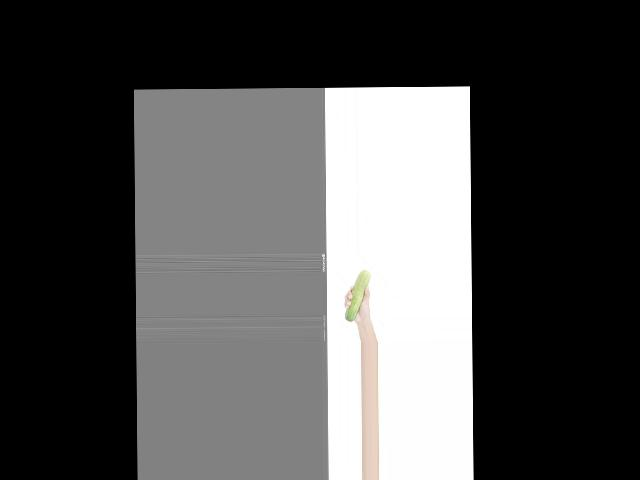cucumber: (344, 270, 371, 322)
